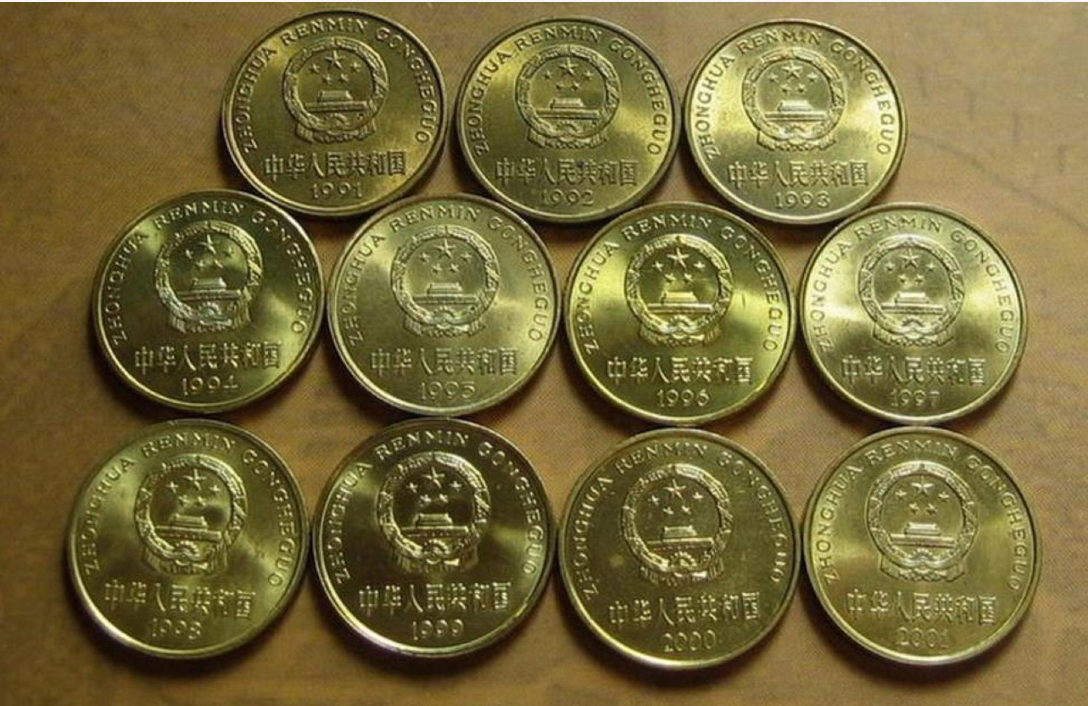coin: (60, 416, 311, 667), (312, 413, 557, 661), (799, 426, 1043, 670), (561, 426, 796, 674), (563, 197, 801, 429), (88, 189, 326, 416), (329, 189, 559, 417), (802, 197, 1029, 428), (453, 7, 683, 226), (218, 8, 450, 217), (684, 16, 911, 226)
